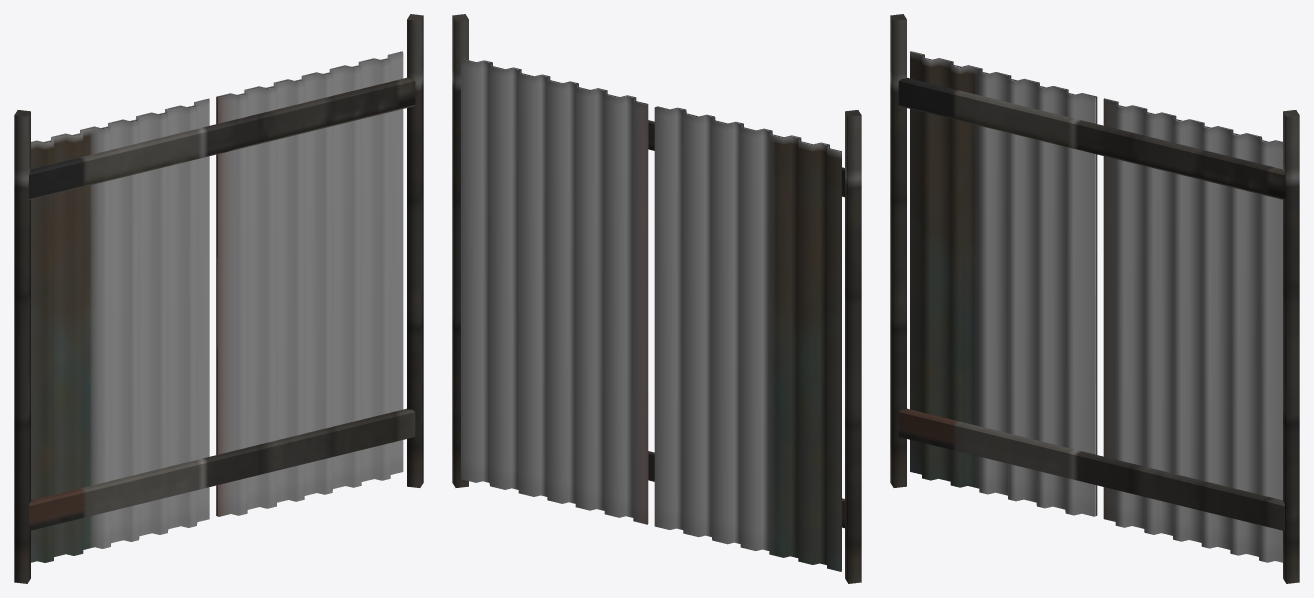
The model's file is bz_fence_profile_02.fbx.
The picture shows the model from 3 angles, left to right: view 1: azimuth 30°, elevation 25°; view 2: azimuth 150°, elevation 25°; view 3: azimuth 330°, elevation 25°; orthographic projection.
Parts seen in each view (by area): view 1: bz_fence_profile_006, bz_fence_profile_008, bz_fence_profile_004, bz_fence_profile_003, bz_fence_profile_002, bz_fence_profile_001; view 2: bz_fence_profile_006, bz_fence_profile_008, bz_fence_profile_002, bz_fence_profile_001; view 3: bz_fence_profile_008, bz_fence_profile_006, bz_fence_profile_003, bz_fence_profile_004, bz_fence_profile_001, bz_fence_profile_002.
Part boxes in pixels (x1,y1,x2,y2): bz_fence_profile_006: [216, 51, 403, 516]; bz_fence_profile_008: [31, 98, 209, 562]; bz_fence_profile_004: [29, 408, 415, 530]; bz_fence_profile_003: [29, 77, 415, 199]; bz_fence_profile_002: [14, 110, 30, 583]; bz_fence_profile_001: [407, 14, 423, 487]; bz_fence_profile_006: [461, 59, 648, 524]; bz_fence_profile_008: [654, 106, 841, 571]; bz_fence_profile_002: [845, 110, 861, 583]; bz_fence_profile_001: [452, 14, 468, 487]; bz_fence_profile_008: [910, 51, 1097, 516]; bz_fence_profile_006: [1103, 98, 1282, 562]; bz_fence_profile_003: [898, 77, 1284, 199]; bz_fence_profile_004: [898, 408, 1284, 530]; bz_fence_profile_001: [1283, 110, 1299, 583]; bz_fence_profile_002: [890, 14, 906, 487].
Size of the model in its own units: 1.94 by 2.12 by 0.09.
